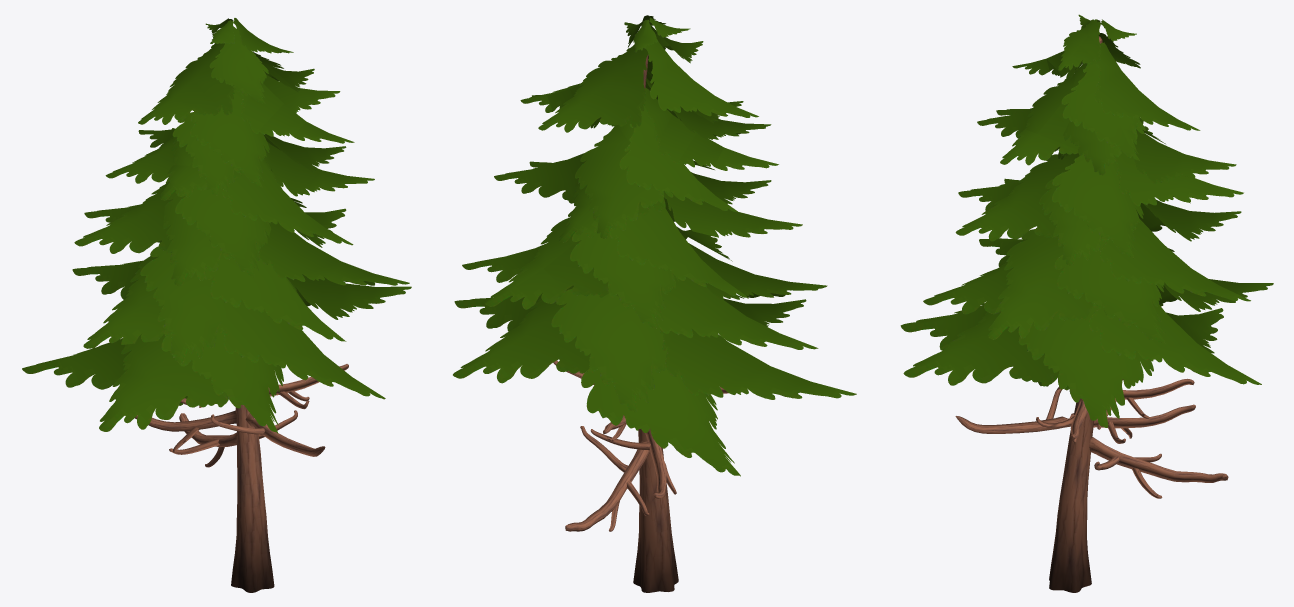
Rendered from pine_1.glb.
3 renders of one model, left to right at view 1: azimuth 30°, elevation 25°; view 2: azimuth 150°, elevation 25°; view 3: azimuth 270°, elevation 25°, orthographic. The views are drawn at different scales.
Parts seen in each view (by area): view 1: Pine_1; view 2: Pine_1; view 3: Pine_1.
Part boxes in pixels (x1,y1,x2,y2): Pine_1: (22,18,411,592); Pine_1: (453,15,856,592); Pine_1: (900,14,1273,592).
Size of the model in its own units: 4.94 by 7.32 by 4.54.
2 materials, 2 textured.
